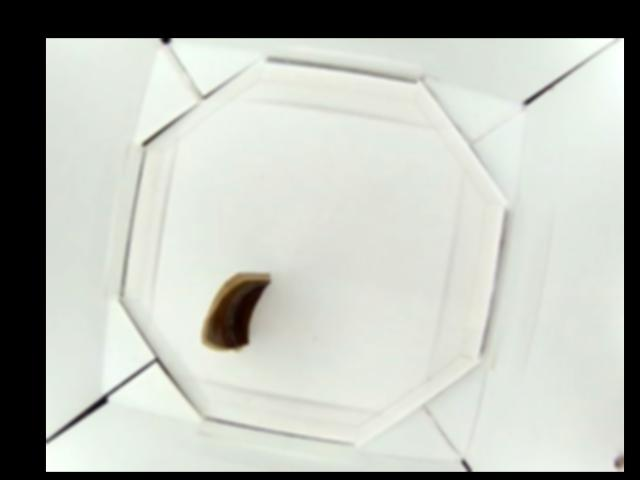China: (195, 266, 272, 351)
